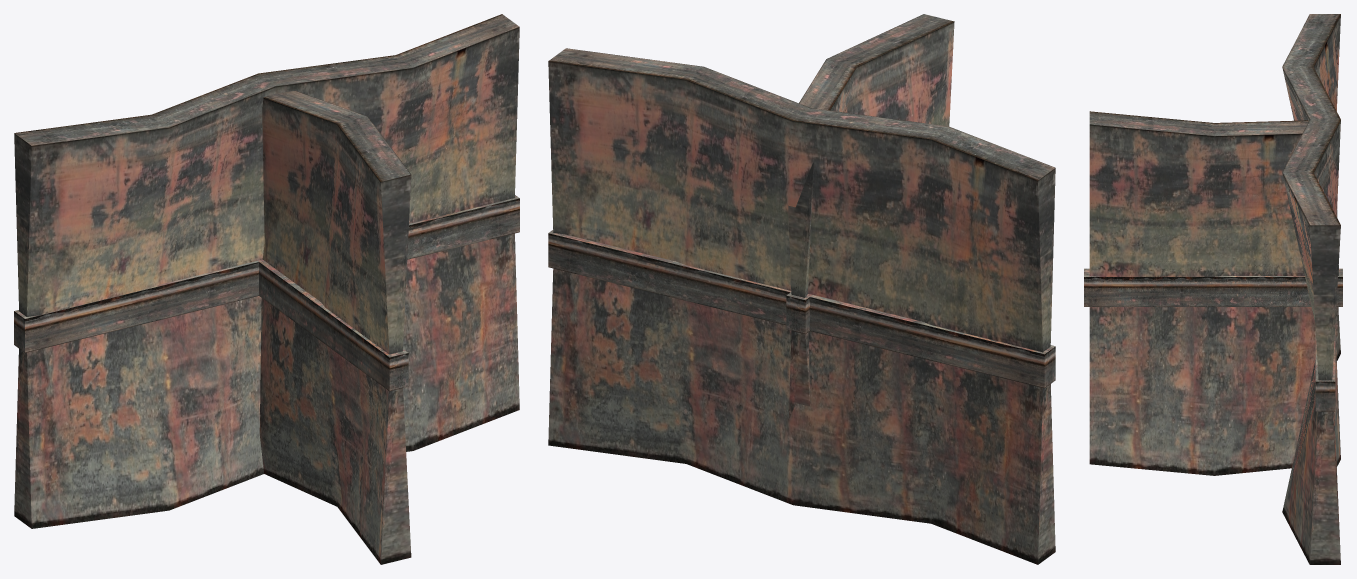
The model's file is wall_T.FBX.
The picture shows the model from 3 angles, left to right: view 1: azimuth 30°, elevation 25°; view 2: azimuth 150°, elevation 25°; view 3: azimuth 270°, elevation 25°; orthographic projection. The views are drawn at different scales.
Parts seen in each view (by area): view 1: wall_base003, wall_base004, Box017, Box018; view 2: wall_base003, Box017, wall_base004, Box018; view 3: wall_base004, wall_base003, Box018, Box017.
Part boxes in pixels (x1,y1,x2,y2): wall_base003: [14, 14, 519, 528]; wall_base004: [259, 90, 411, 564]; Box017: [14, 195, 519, 352]; Box018: [258, 259, 408, 391]; wall_base003: [548, 48, 1055, 564]; Box017: [548, 230, 1055, 388]; wall_base004: [788, 14, 954, 419]; Box018: [786, 292, 812, 334]; wall_base004: [1089, 111, 1338, 475]; wall_base003: [1282, 14, 1340, 564]; Box018: [1084, 268, 1342, 306]; Box017: [1315, 329, 1335, 411].
Bounding box in the file's own units: 999 × 739 × 510.
